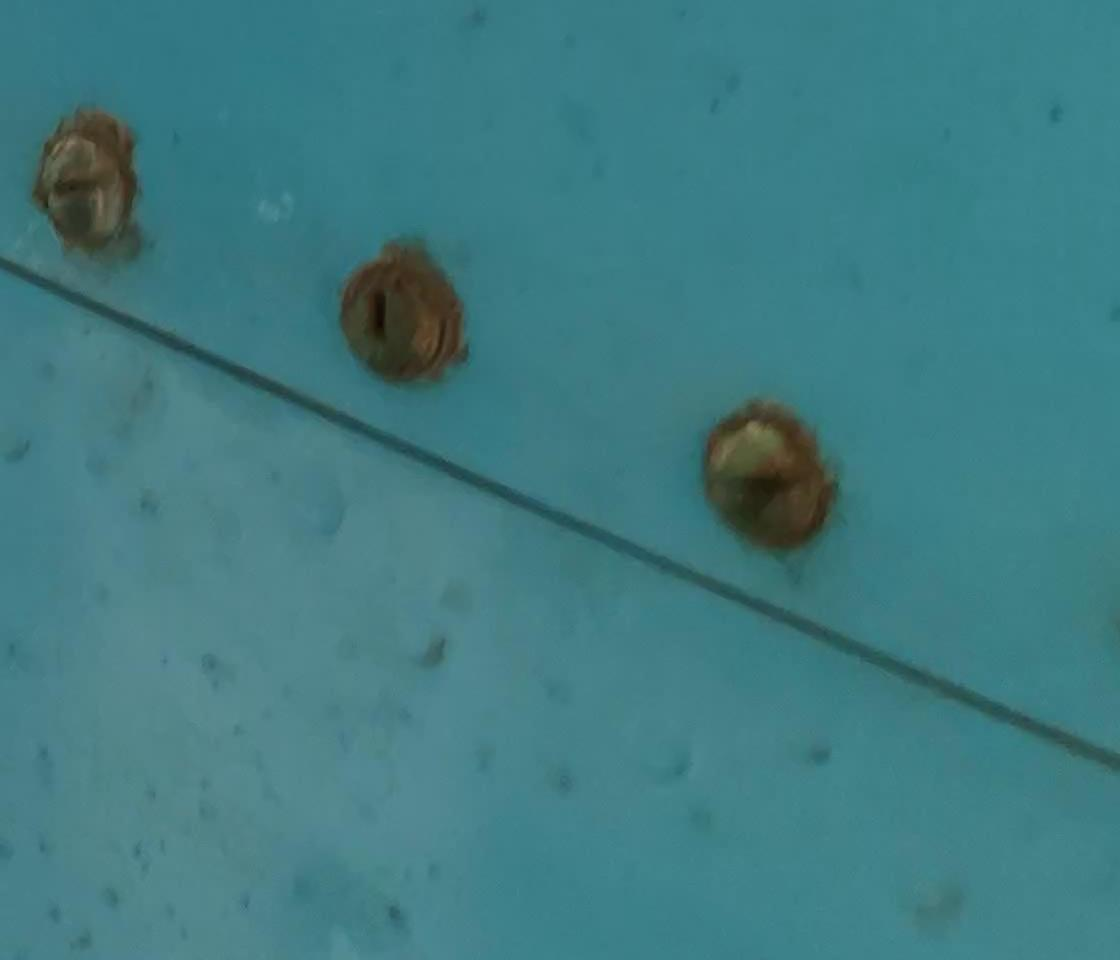rivet_damage: (692, 402, 847, 555), (320, 246, 476, 390), (30, 109, 141, 249)
